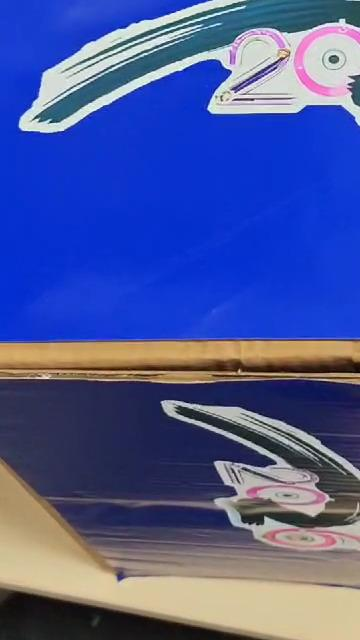B_R1: (6, 0, 360, 159)
